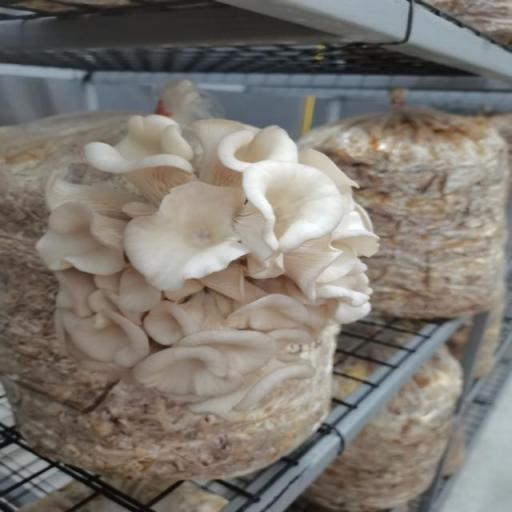White Oyster Mushroom: (32, 113, 394, 404)
